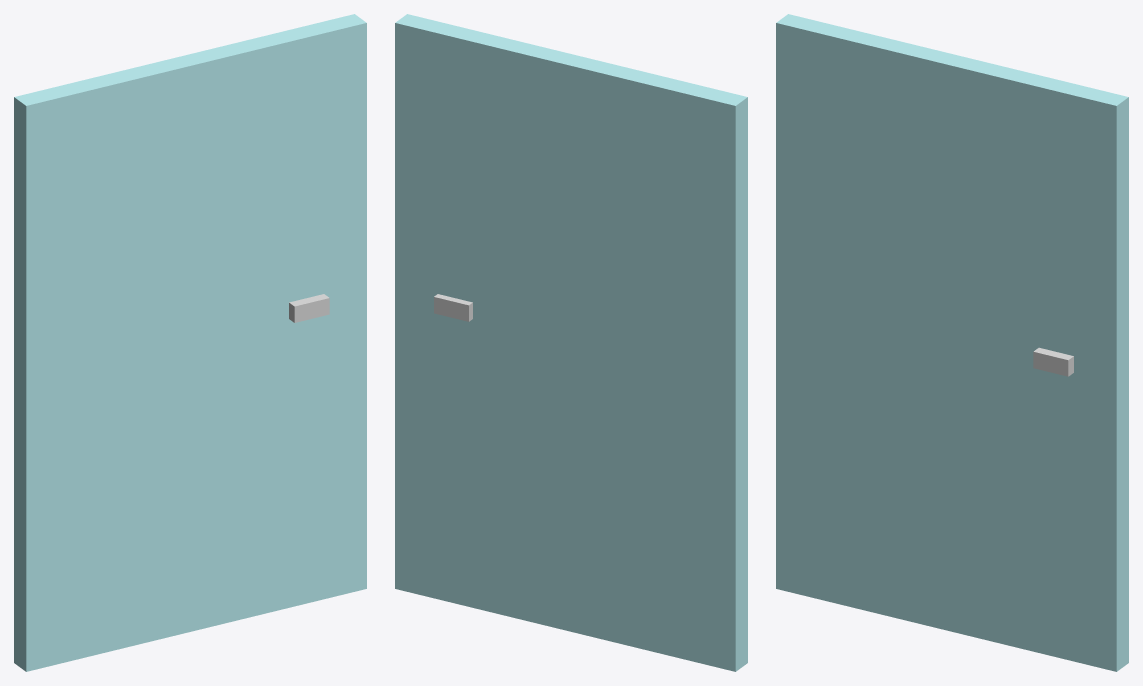
File: Puerta_Cristal.fbx
3 renders of one model, left to right at view 1: azimuth 30°, elevation 25°; view 2: azimuth 150°, elevation 25°; view 3: azimuth 330°, elevation 25°, orthographic.
Parts seen in each view (by area): view 1: Puerta_Cristal, Cube.061; view 2: Puerta_Cristal, Cube.061; view 3: Puerta_Cristal, Cube.061.
Part boxes in pixels (box(x1,y1,x2,y2)): Puerta_Cristal: box(14, 14, 366, 671); Cube.061: box(289, 294, 329, 322); Puerta_Cristal: box(395, 14, 747, 671); Cube.061: box(434, 294, 472, 321); Puerta_Cristal: box(776, 14, 1128, 671); Cube.061: box(1033, 347, 1073, 376).
Bounding box in the file's own units: 129 × 206 × 14.29.
